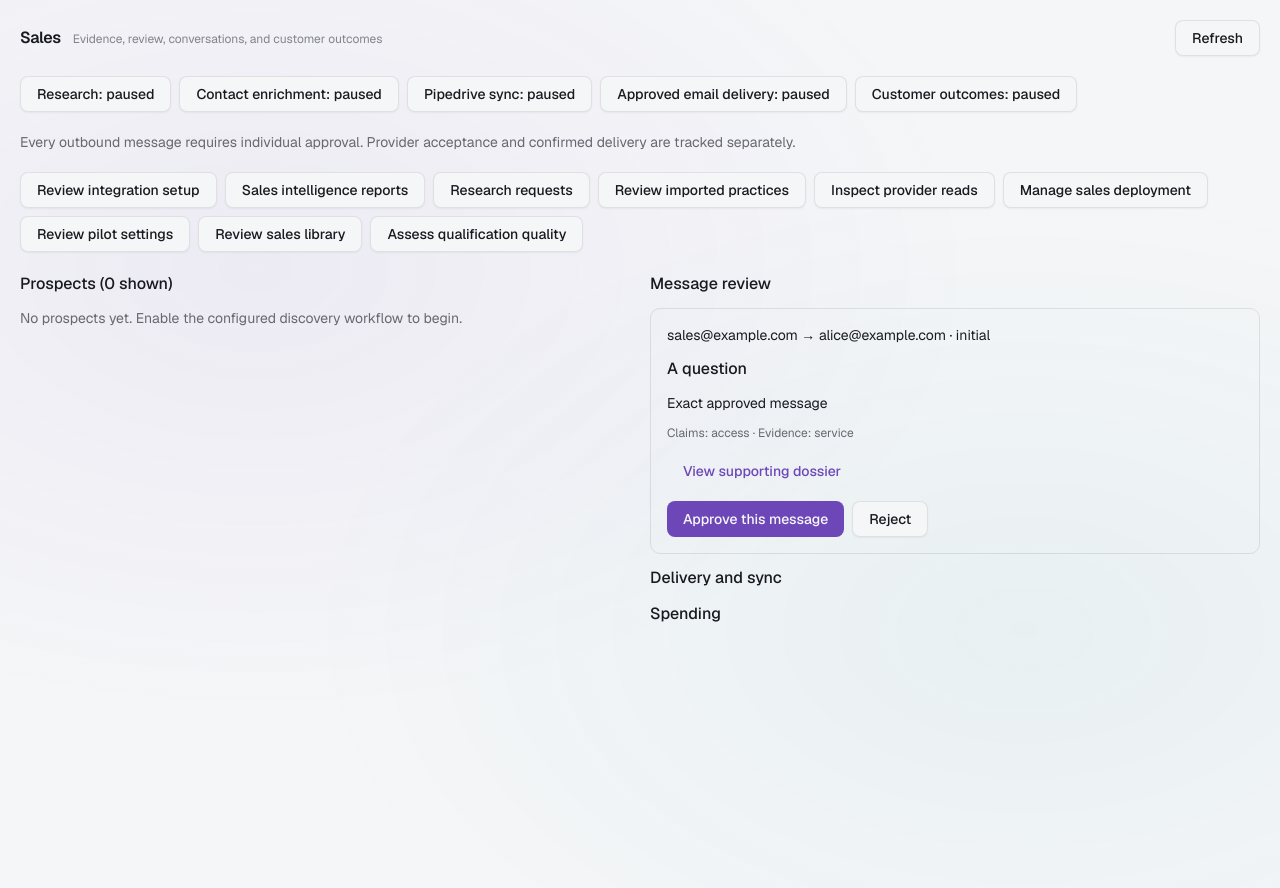
Test: loads deployment state only when the operator opens its controls
This screenshot has width=1280, height=888.
Check: the text "Exact approved message" is shown, box [667,394,828,412]
Step 1. Click the button "Manage sales deployment" → (1105, 190), box [1003,172,1208,208]
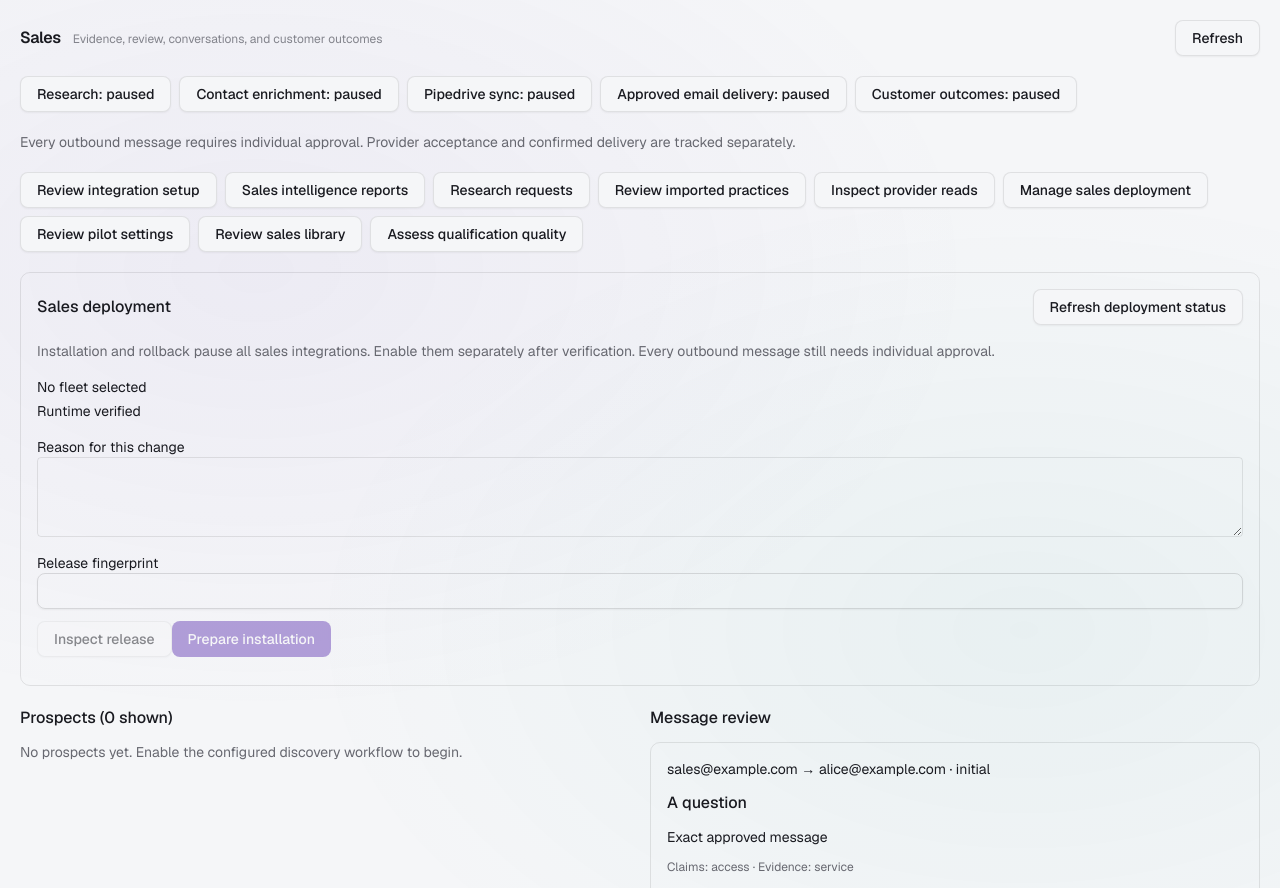
Check: the text "No fleet selected" is shown, box [37,378,147,396]
